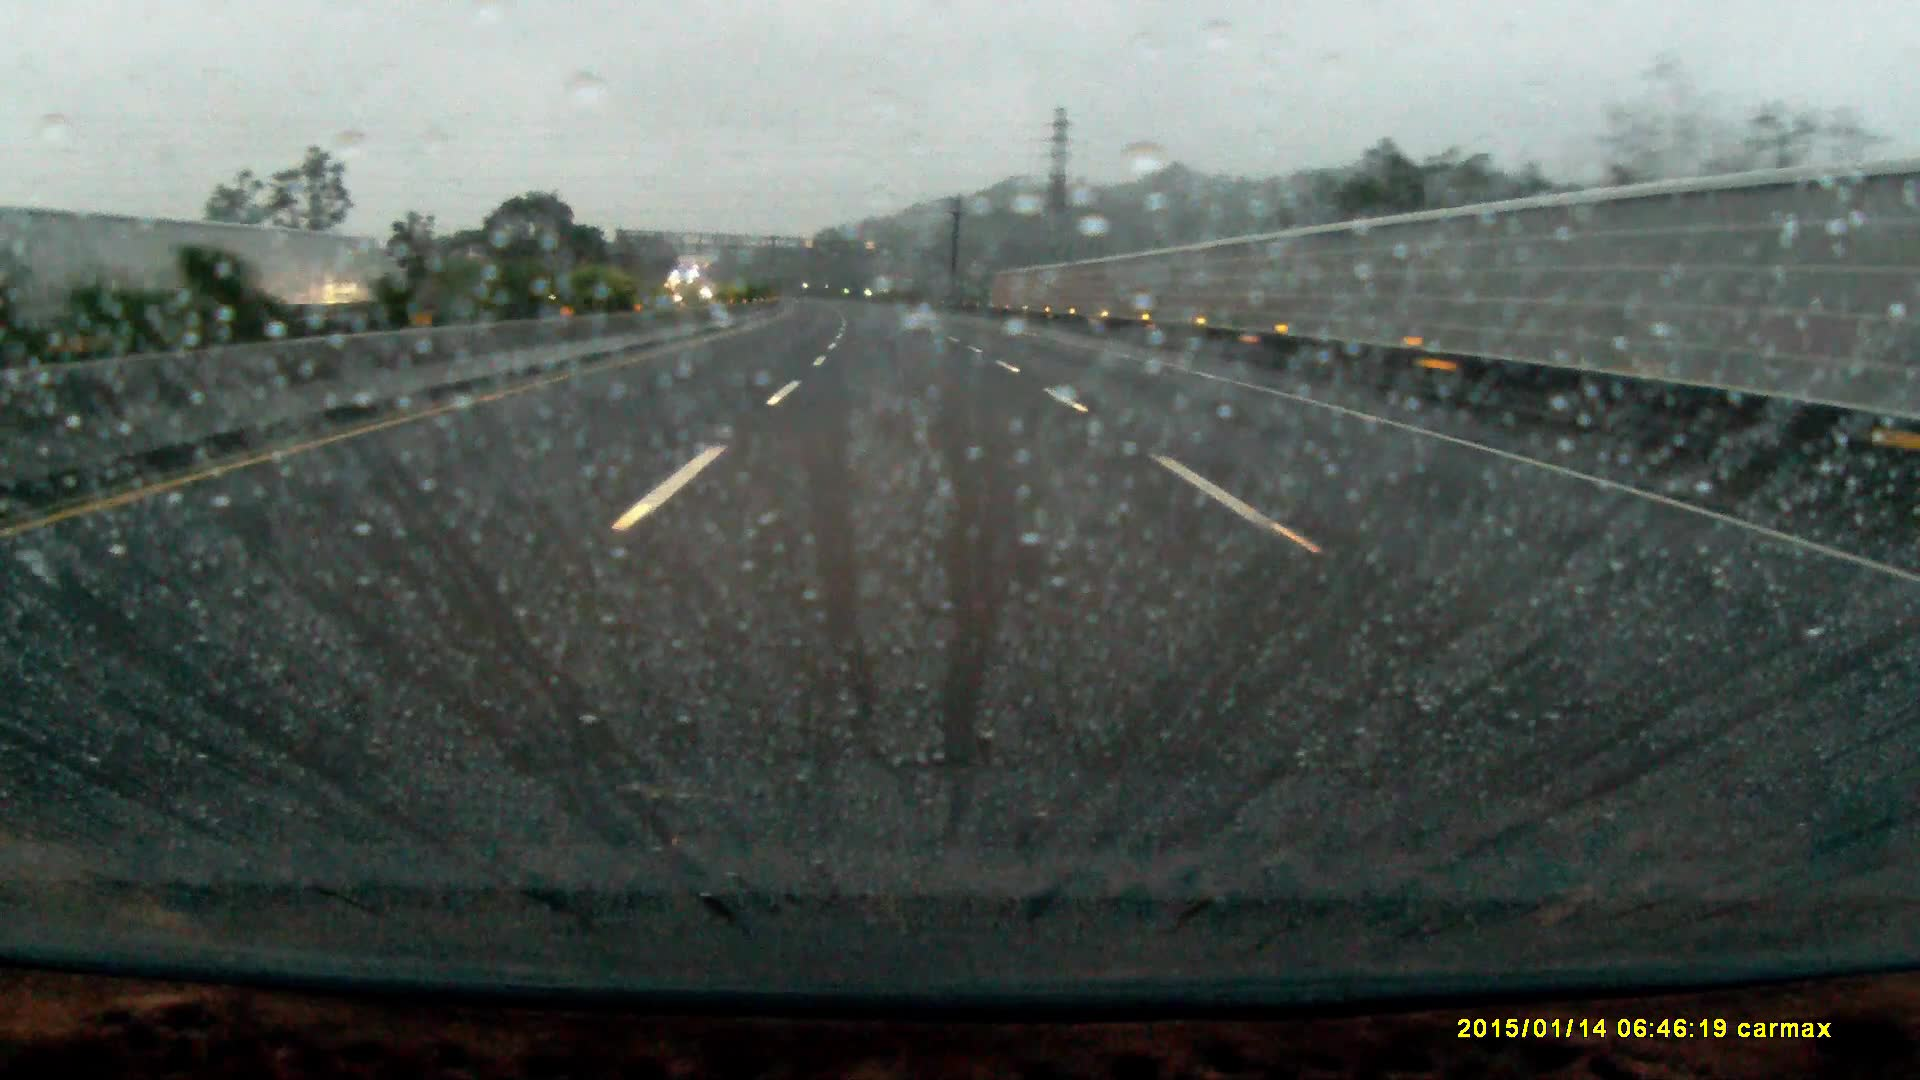vehicle: (667, 272, 702, 301)
